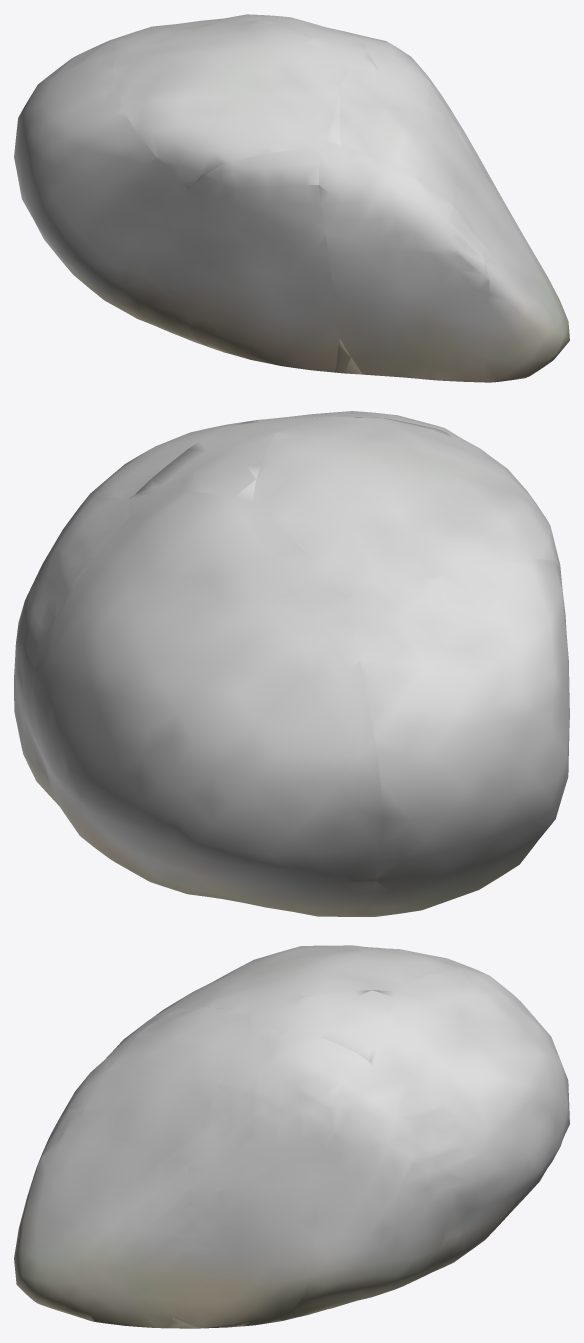
The model's file is gold_rock_v6.glb.
3 views of the same model, one above another, from view 1: azimuth 30°, elevation 25°; view 2: azimuth 150°, elevation 25°; view 3: azimuth 270°, elevation 25° (orthographic). The views are drawn at different scales.
Visible parts, largest first — view 1: Chunk_03, Chunk_05, Chunk_04, Chunk_08, Chunk_06, Chunk_09, Chunk_07, Chunk_26, Chunk_02, Chunk_24, Chunk_17, Chunk_25; view 2: Chunk_02, Chunk_03, Chunk_08, Chunk_01, Chunk_24, Chunk_07, Chunk_26, Chunk_21, Chunk_09; view 3: Chunk_02, Chunk_01, Chunk_06, Chunk_07, Chunk_00, Chunk_09, Chunk_08, Chunk_26, Chunk_24, Chunk_05, Chunk_21.
Part boxes in pixels (<box>): Chunk_03: <box>14,42,205,345</box>; Chunk_05: <box>318,145,489,382</box>; Chunk_04: <box>186,148,339,372</box>; Chunk_08: <box>113,20,344,189</box>; Chunk_06: <box>462,165,569,382</box>; Chunk_09: <box>340,69,482,213</box>; Chunk_07: <box>346,31,489,175</box>; Chunk_26: <box>311,23,378,70</box>; Chunk_02: <box>74,14,274,56</box>; Chunk_24: <box>240,16,328,50</box>; Chunk_17: <box>335,338,362,374</box>; Chunk_25: <box>322,71,345,147</box>; Chunk_02: <box>28,492,381,916</box>; Chunk_03: <box>346,559,569,916</box>; Chunk_08: <box>252,417,560,598</box>; Chunk_01: <box>14,498,129,812</box>; Chunk_24: <box>179,426,285,502</box>; Chunk_07: <box>80,421,250,505</box>; Chunk_26: <box>136,418,311,493</box>; Chunk_21: <box>127,478,186,517</box>; Chunk_09: <box>270,411,447,432</box>; Chunk_02: <box>387,966,569,1276</box>; Chunk_01: <box>289,1063,477,1316</box>; Chunk_06: <box>14,1120,191,1328</box>; Chunk_07: <box>188,1032,372,1201</box>; Chunk_00: <box>173,1155,323,1328</box>; Chunk_09: <box>80,1007,248,1163</box>; Chunk_08: <box>165,945,453,1012</box>; Chunk_26: <box>247,1005,369,1061</box>; Chunk_24: <box>281,990,394,1026</box>; Chunk_05: <box>35,1013,163,1170</box>; Chunk_21: <box>369,1026,396,1065</box>.
Size of the model in its own units: 2.02 by 1.31 by 2.49.
